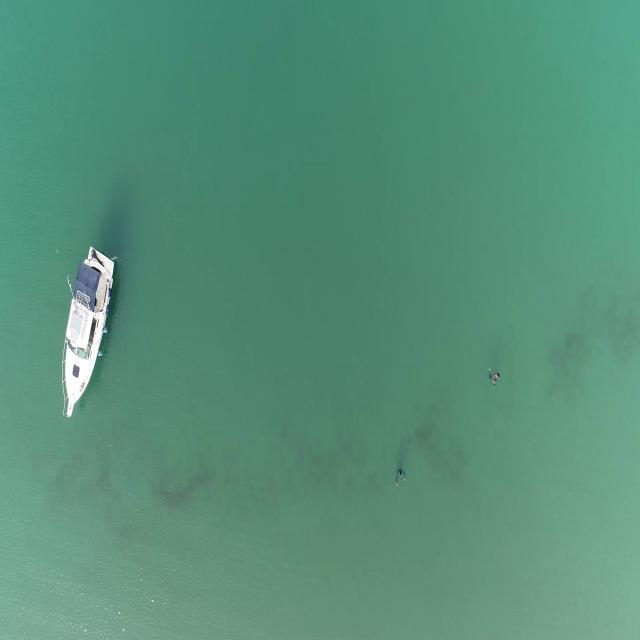boat: (58, 247, 119, 421)
person: (394, 467, 408, 490), (488, 366, 500, 389)
